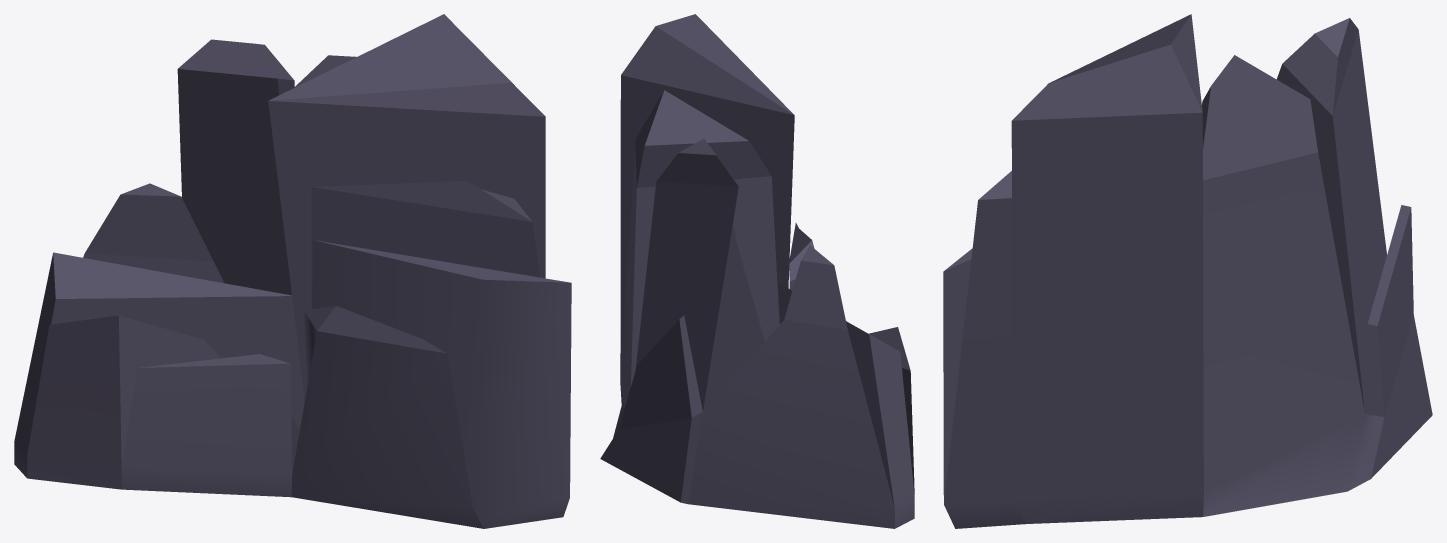
Rendered from IceWall.fbx.
The picture shows the model from 3 angles, left to right: view 1: azimuth 30°, elevation 25°; view 2: azimuth 150°, elevation 25°; view 3: azimuth 270°, elevation 25°; orthographic projection. The views are drawn at different scales.
Visible parts, largest first — view 1: pCylinder63; view 2: pCylinder63; view 3: pCylinder63.
Part boxes in pixels (x1,y1,x2,y2): pCylinder63: (14,14,571,528); pCylinder63: (600,14,914,528); pCylinder63: (943,14,1432,528).
Size of the model in its own units: 623 by 677 by 634.
